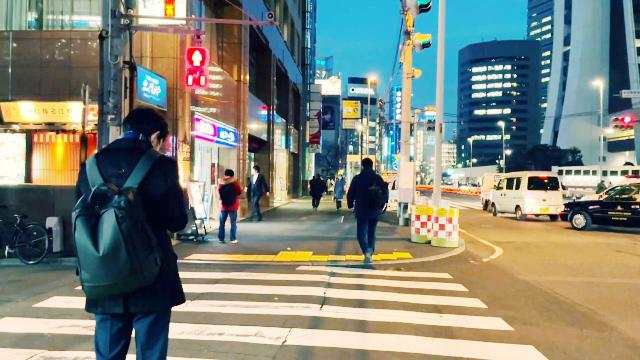berdiri: (78, 110, 182, 360), (219, 166, 245, 250)
berjalan: (348, 157, 388, 273)
